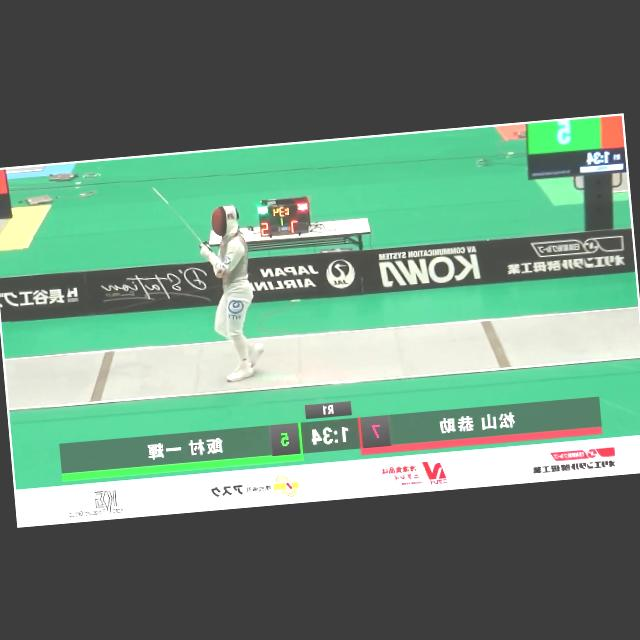blade: (143, 180, 216, 256)
